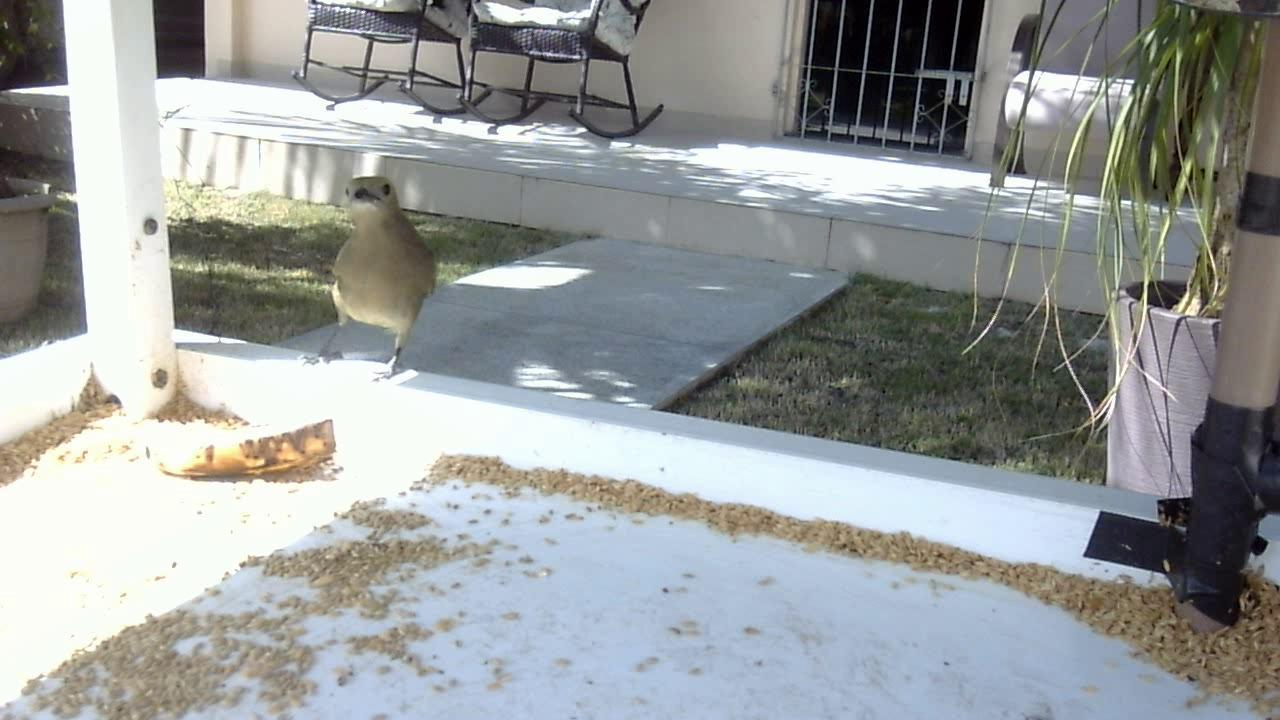sanhaco_do_coqueiro: (288, 171, 442, 381)
